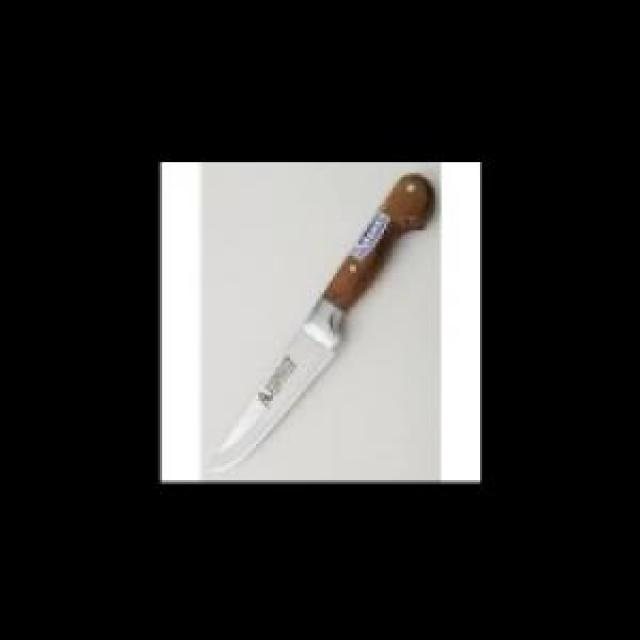knife: (209, 164, 437, 473)
